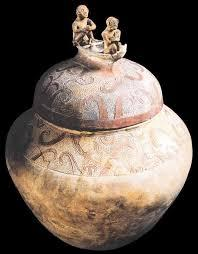manunggul_jar: (5, 6, 193, 250)
